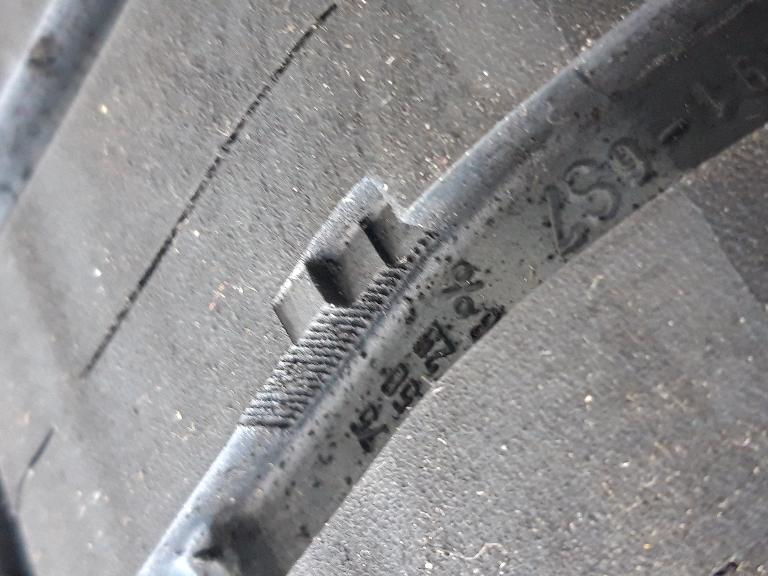temoin:50: (263, 164, 451, 365)
